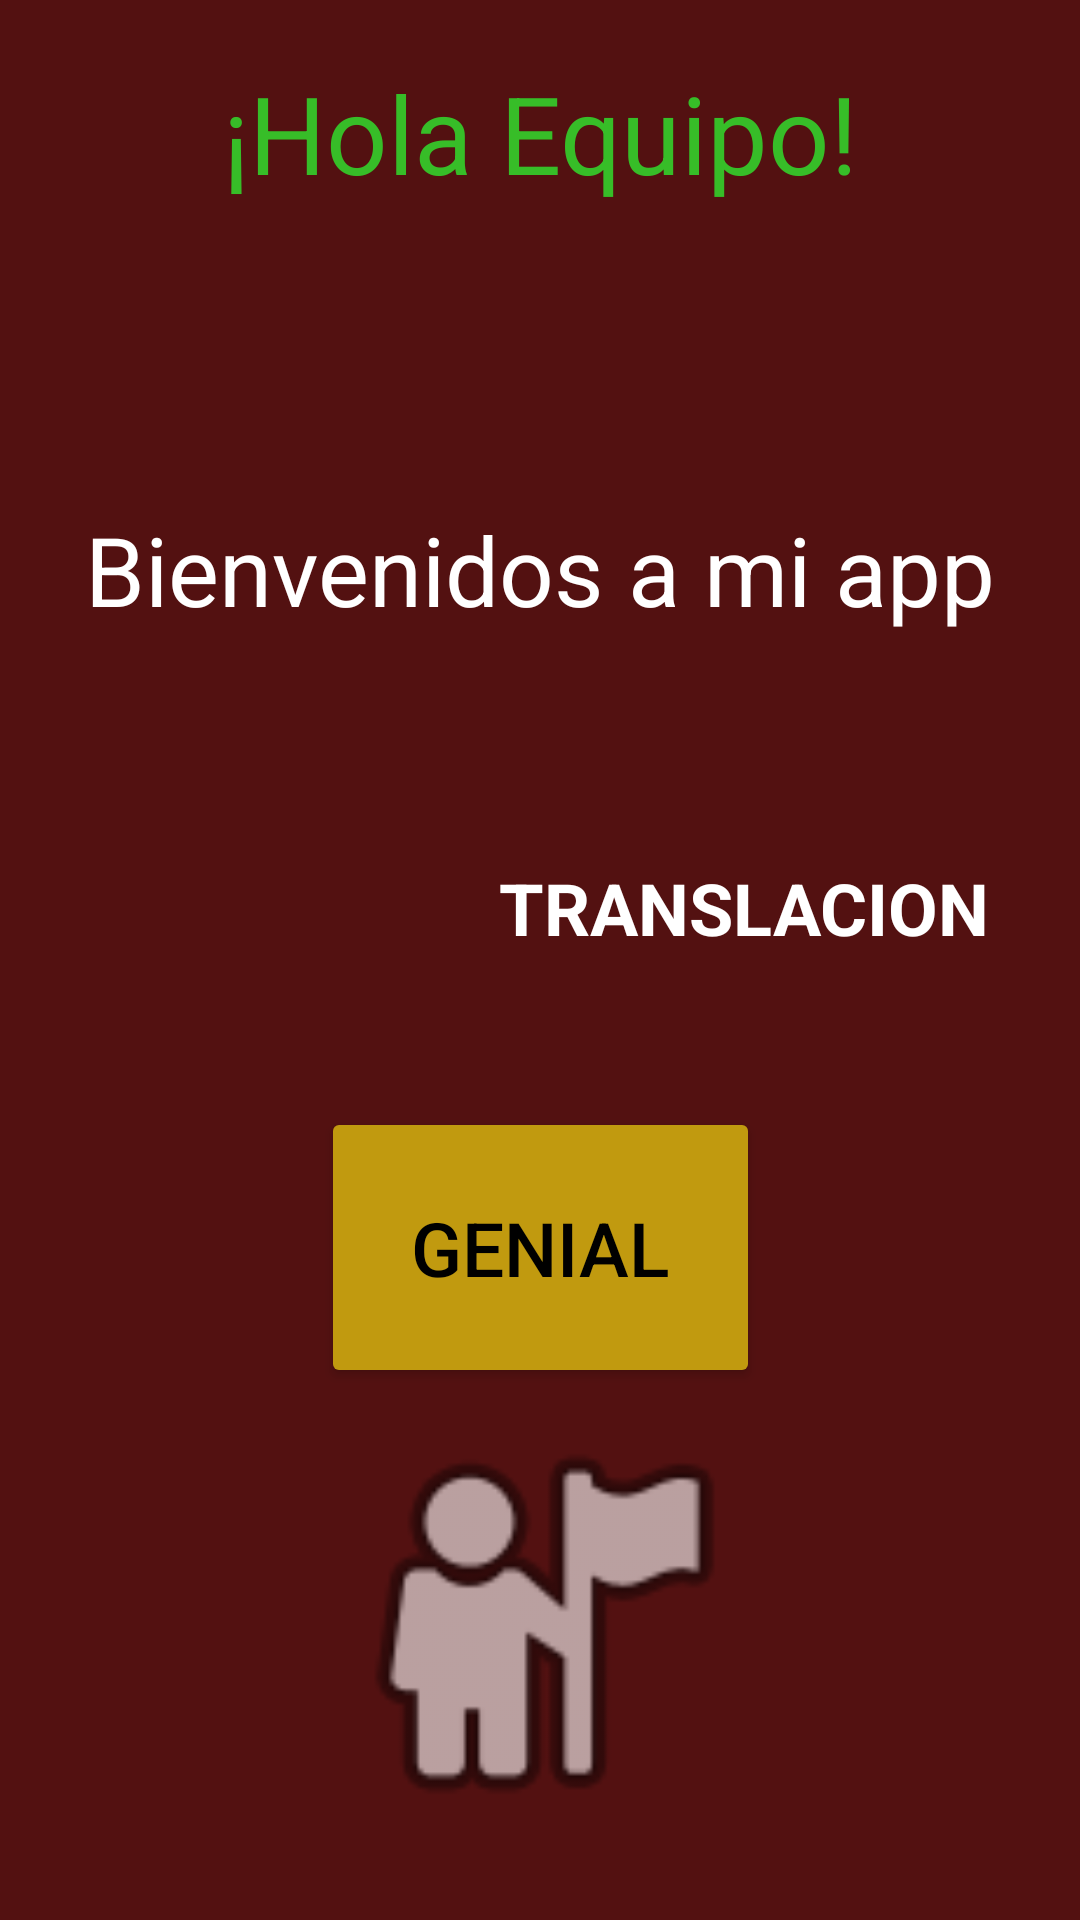

Icon bounding boxes for this 1080 × 1920 phone screenshot, format (x1, y1, x2, y2):
myplaces: (379, 1460, 711, 1788)
